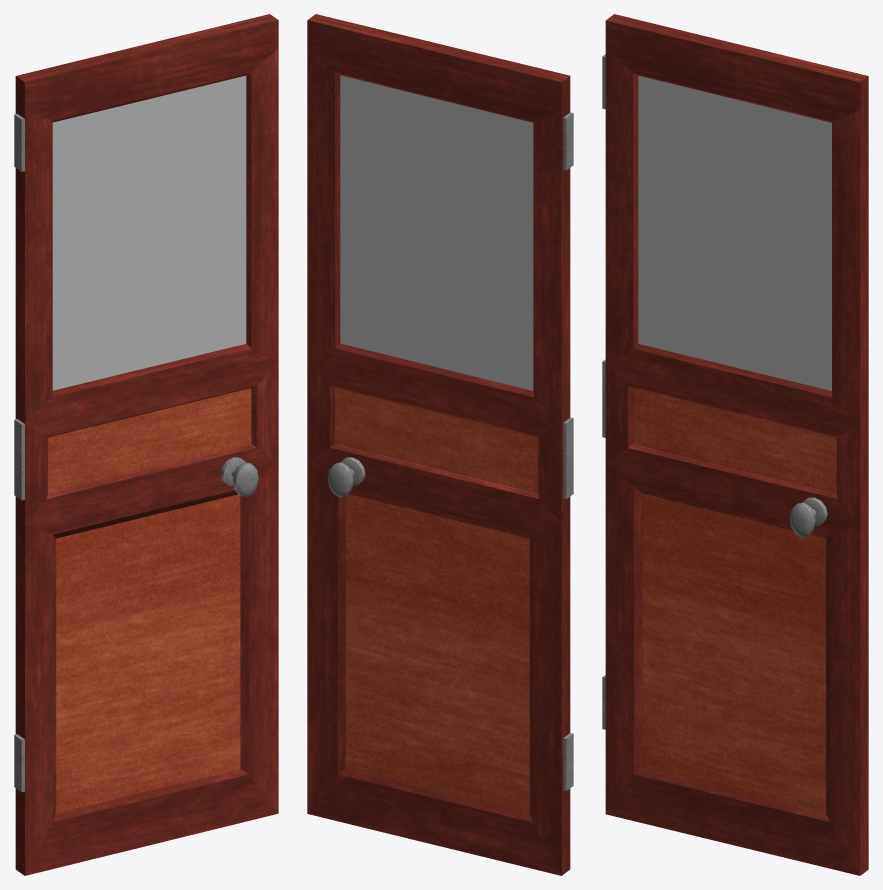
The model's file is SM_Door_2.fbx.
The picture shows the model from 3 angles, left to right: view 1: azimuth 30°, elevation 25°; view 2: azimuth 150°, elevation 25°; view 3: azimuth 330°, elevation 25°; orthographic projection.
Visible parts, largest first — view 1: SM_Door_2; view 2: SM_Door_2; view 3: SM_Door_2.
Boxes of the visible parts, x1,y1,x2,y2 form: SM_Door_2: (14,14,278,875); SM_Door_2: (307,14,573,875); SM_Door_2: (602,14,868,875).
Bounding box in the file's own units: 73.12 × 19.4 × 215.
2 materials, 1 textured.
